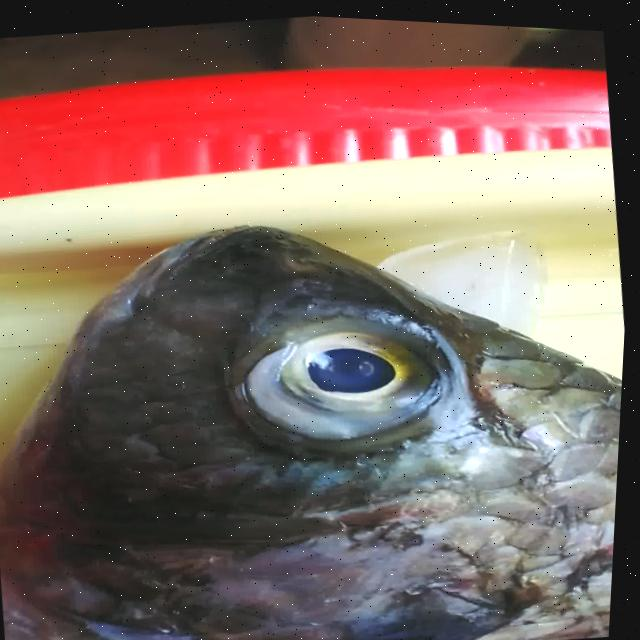Fresh: (181, 275, 497, 486)
